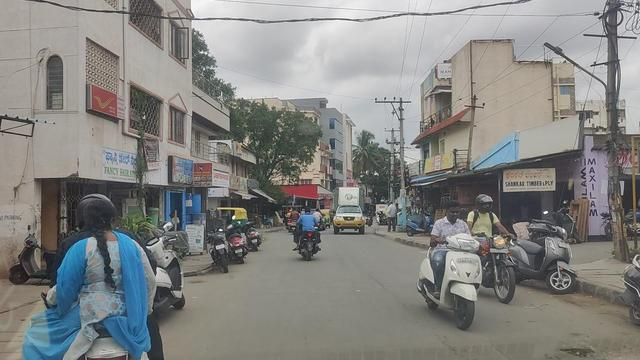LMV: (67, 188, 160, 360), (429, 201, 474, 326), (472, 194, 516, 302), (298, 193, 329, 270)
RoadDamages: (532, 332, 617, 360)
